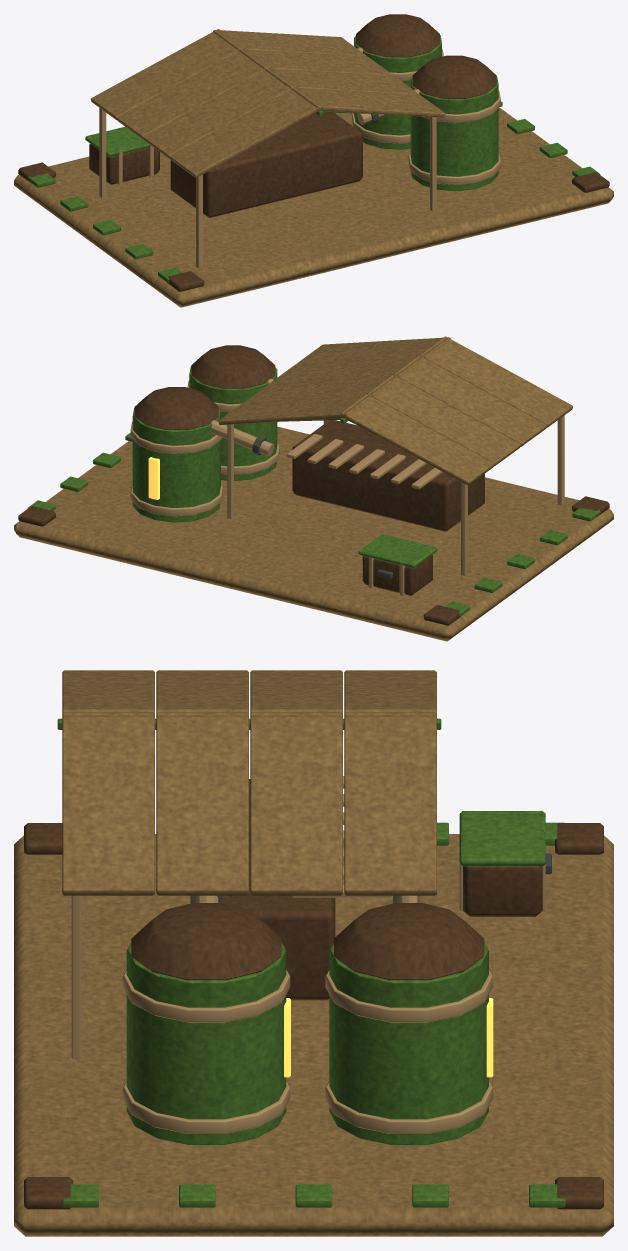
The model's file is vael_comptoir_de_raffinage.gltf.
The picture shows the model from 3 angles, top to bottom: view 1: azimuth 30°, elevation 25°; view 2: azimuth 150°, elevation 25°; view 3: azimuth 270°, elevation 25°; orthographic projection. The views are drawn at different scales.
Parts seen in each view (by area): view 1: Root.002_Geometry; view 2: Root.002_Geometry; view 3: Root.002_Geometry.
Part boxes in pixels (<box>): Root.002_Geometry: <box>14,14,613,307</box>; Root.002_Geometry: <box>14,336,613,641</box>; Root.002_Geometry: <box>14,670,613,1236</box>.
Size of the model in its own units: 5.91 by 2.03 by 3.91.
Materials: 6 (3 with a texture image).
